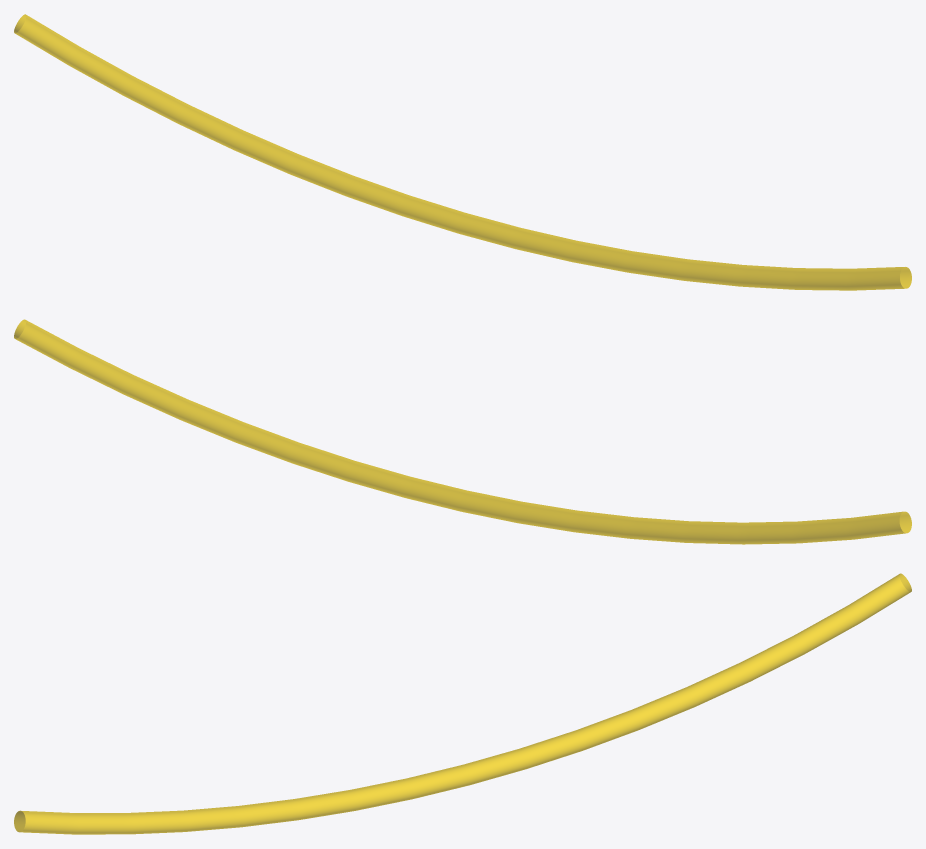
Rendered from Event_100608114_track_59.fbx.
3 views of the same model, one above another, from view 1: azimuth 30°, elevation 25°; view 2: azimuth 210°, elevation 25°; view 3: azimuth 270°, elevation 25° (orthographic).
Parts seen in each view (by area): view 1: Model; view 2: Model; view 3: Model.
Part boxes in pixels (bbox=[...]): Model: bbox=[14, 14, 911, 290]; Model: bbox=[14, 319, 911, 544]; Model: bbox=[14, 573, 911, 834].
Size of the model in its own units: 0.9469 by 0.2186 by 1.66.
